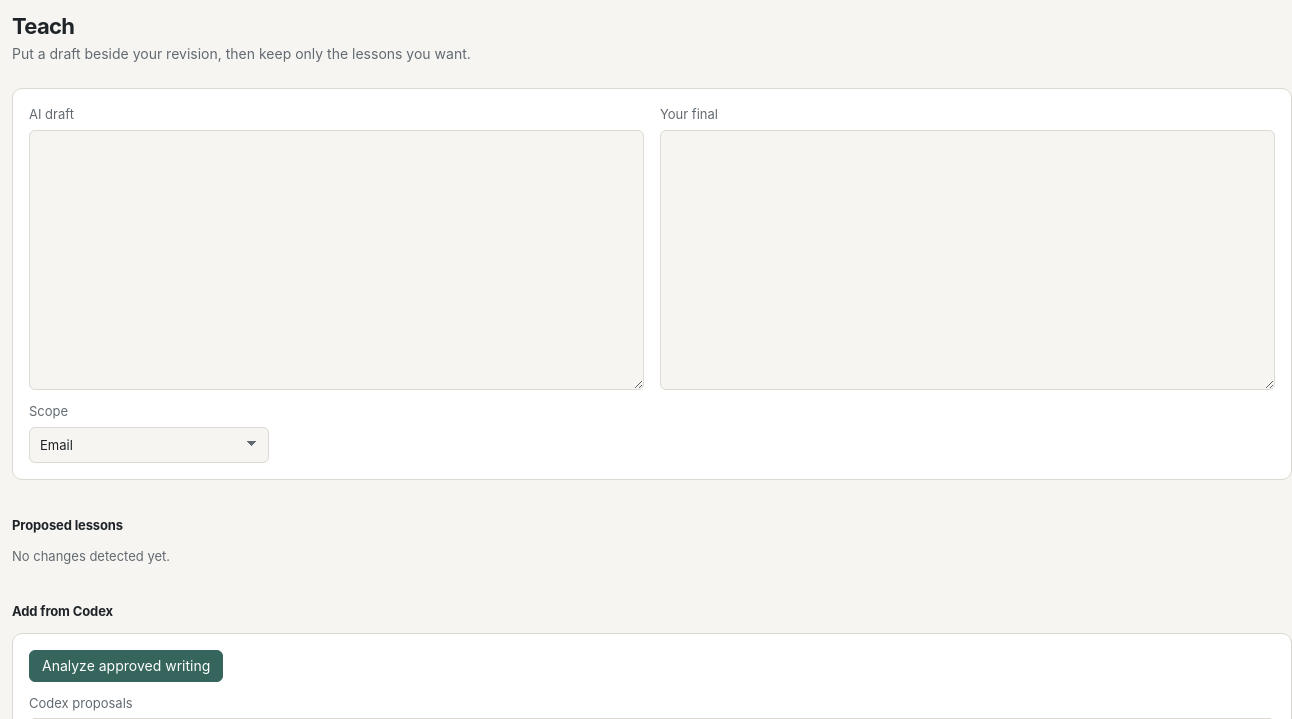
it: Teach Codex proposals › runs native analysis and adds returned proposals for review
Click the button "Analyze approved writing": coordinates (126, 666) [29,650,223,682]
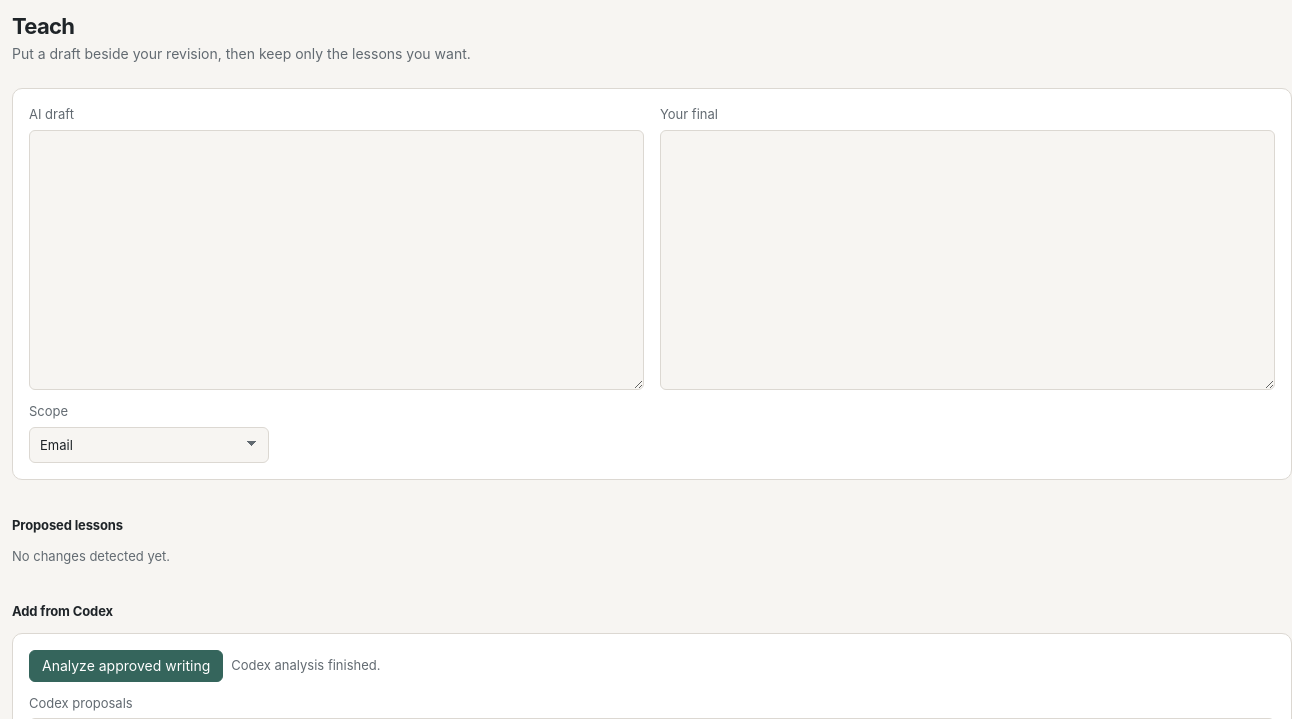
Now the message reads "Codex analysis finished.", box [231,657,381,673]
